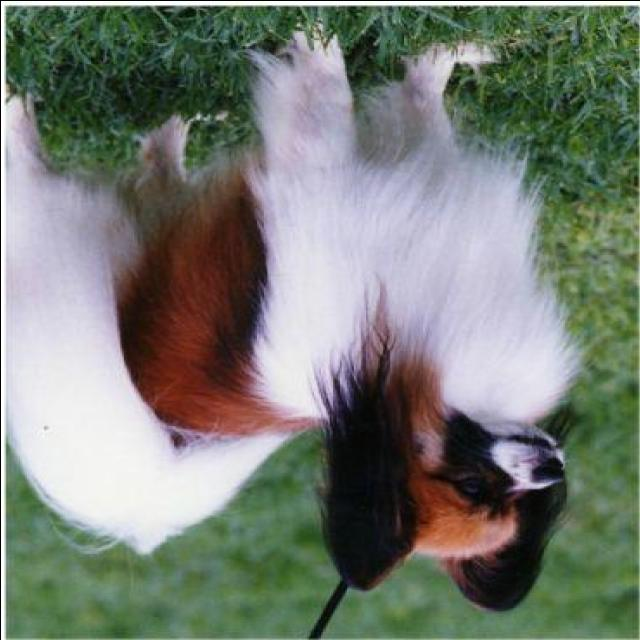papillon: (9, 20, 590, 640)
